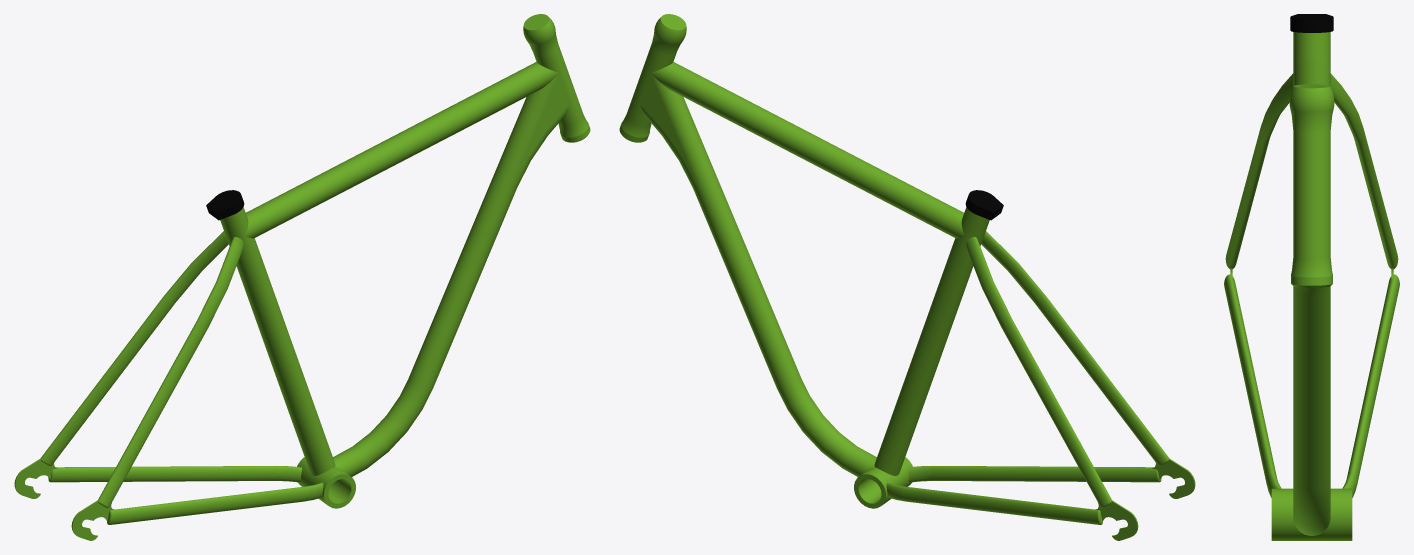
Rendered from frameWHS.glb.
3 renders of one model, left to right at view 1: azimuth 30°, elevation 25°; view 2: azimuth 150°, elevation 25°; view 3: azimuth 270°, elevation 25°, orthographic. The views are drawn at different scales.
Parts seen in each view (by area): view 1: Bike02\Rahmen.001; view 2: Bike02\Rahmen.001; view 3: Bike02\Rahmen.001.
Boxes of the visible parts, x1,y1,x2,y2 form: Bike02\Rahmen.001: [14, 14, 590, 540]; Bike02\Rahmen.001: [619, 14, 1195, 540]; Bike02\Rahmen.001: [1224, 14, 1399, 540].
Size of the model in its own units: 0.9466 by 0.7106 by 0.1879.
